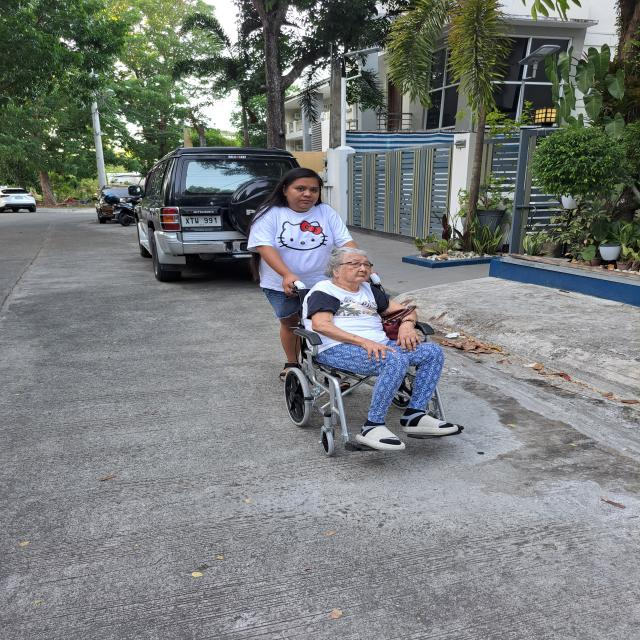wheelchairs: (278, 276, 460, 454)
